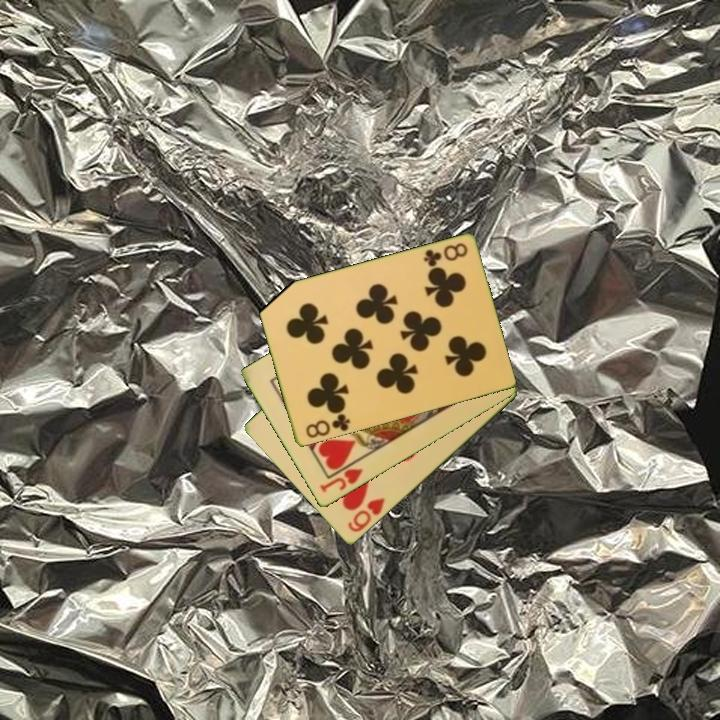6h: (344, 494, 388, 536)
8c: (302, 408, 353, 442), (420, 240, 470, 270)
Jh: (316, 456, 366, 496)
